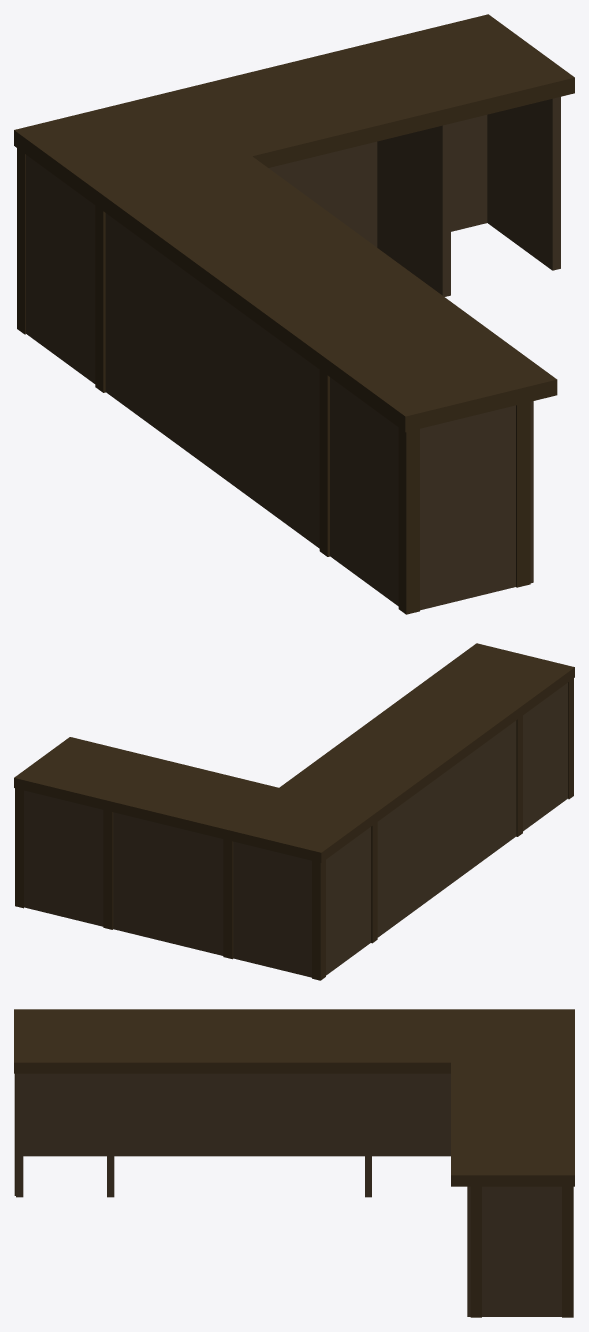
File: Office_Desk_4_Two.fbx
3 renders of one model, top to bottom at view 1: azimuth 30°, elevation 25°; view 2: azimuth 150°, elevation 25°; view 3: azimuth 270°, elevation 25°, orthographic. The views are drawn at different scales.
Parts seen in each view (by area): view 1: Office_Desk_4_Two; view 2: Office_Desk_4_Two; view 3: Office_Desk_4_Two.
Part boxes in pixels (left/top/right/bottom): Office_Desk_4_Two: left=14, top=14, right=574, bottom=614; Office_Desk_4_Two: left=14, top=643, right=574, bottom=980; Office_Desk_4_Two: left=14, top=1009, right=574, bottom=1317.
Size of the model in its own units: 238 by 95.09 by 339.
